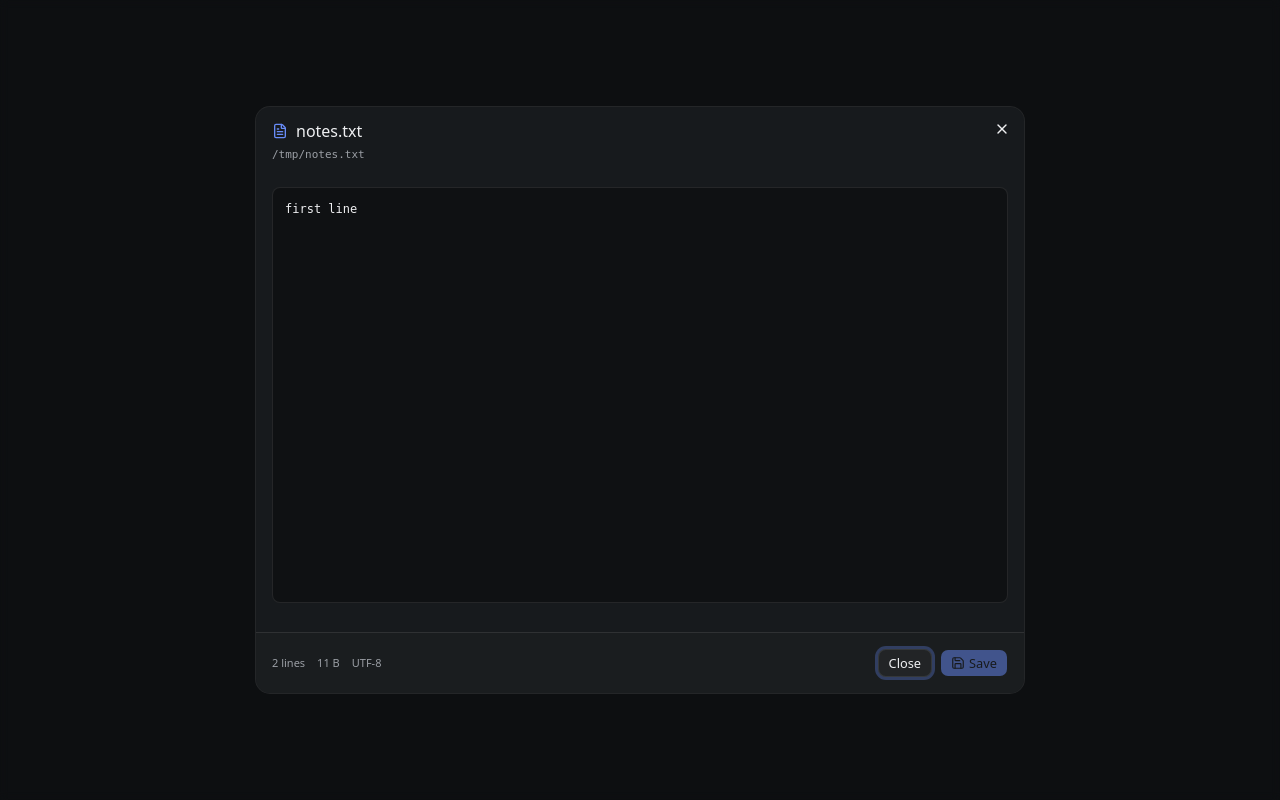
TextEditorDialog › asks before discarding unsaved changes
The width and height of the screenshot is (1280, 800).
Later steps or results of the test are not shown.
Replace the text in the text box named "File contents" with "changed" at (640, 395), box [272,187,1008,603]
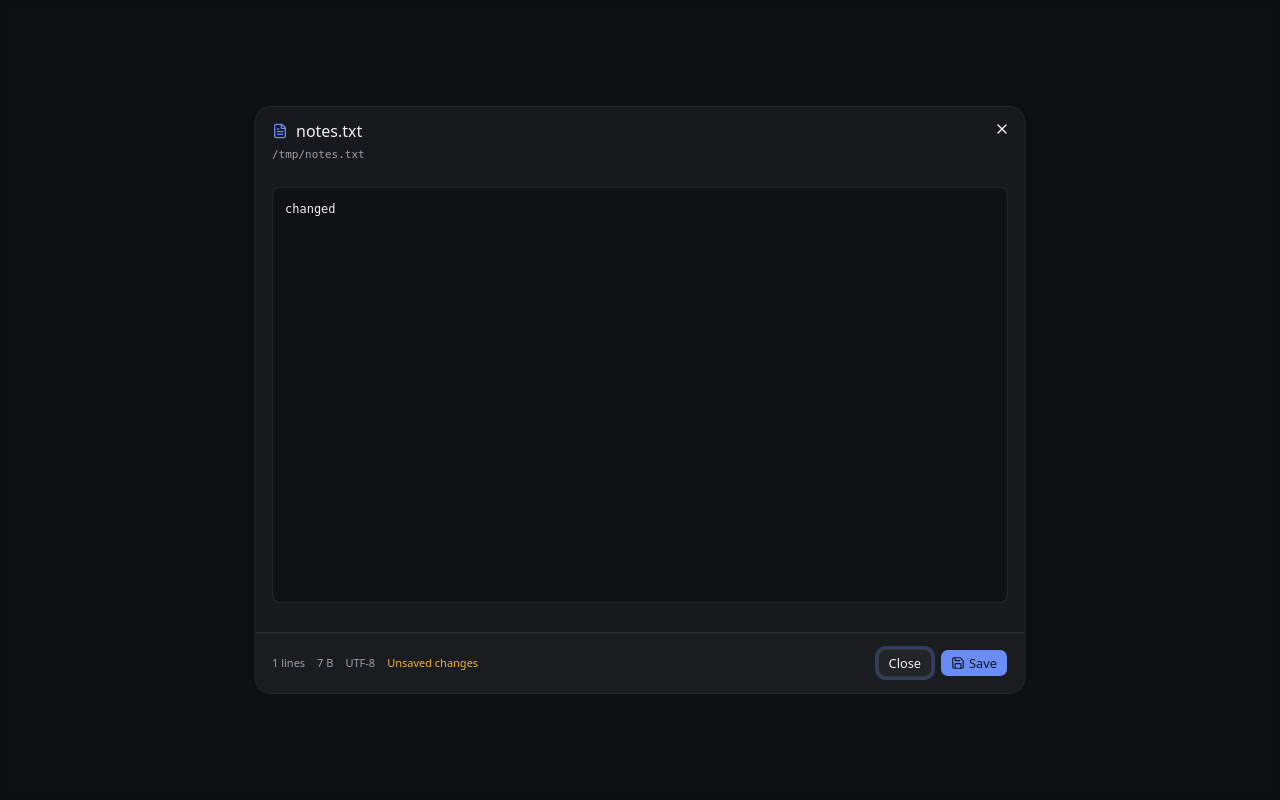
Click the button "Close" at (905, 663), box [878,649,932,677]
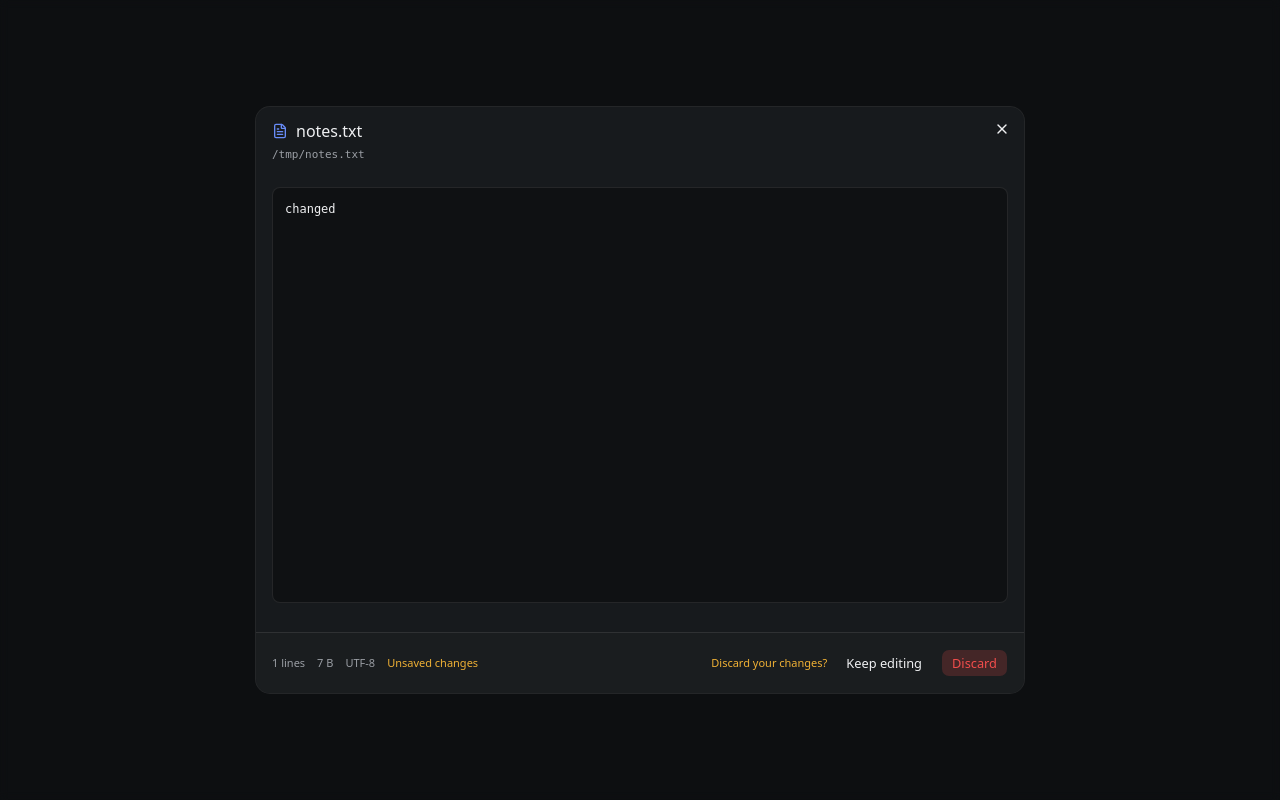
Check: the text "Discard your changes?" is shown, box [711,655,827,671]
Click the button "Keep editing" at (884, 663), box [835,649,933,677]
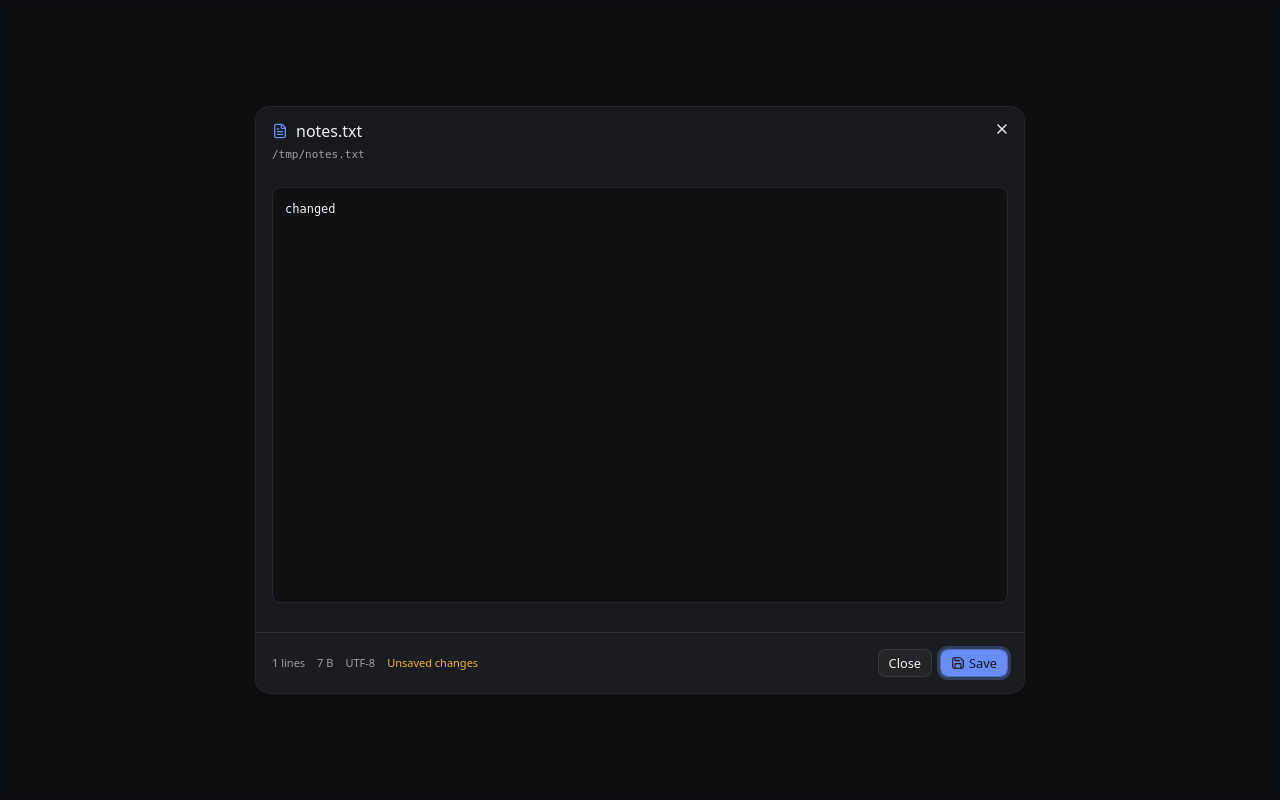
Check: the text "Discard your changes?" is gone
